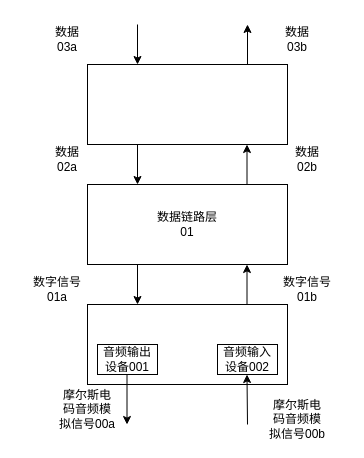
Some shapes in this 364 by 458 pixel diagram are drawn without their labels. The box of each missing label's shape, as (x1, y1, x2, y2) in pixels:
应用层 02: (86, 64, 288, 144)
物理层 00: (86, 304, 288, 384)
